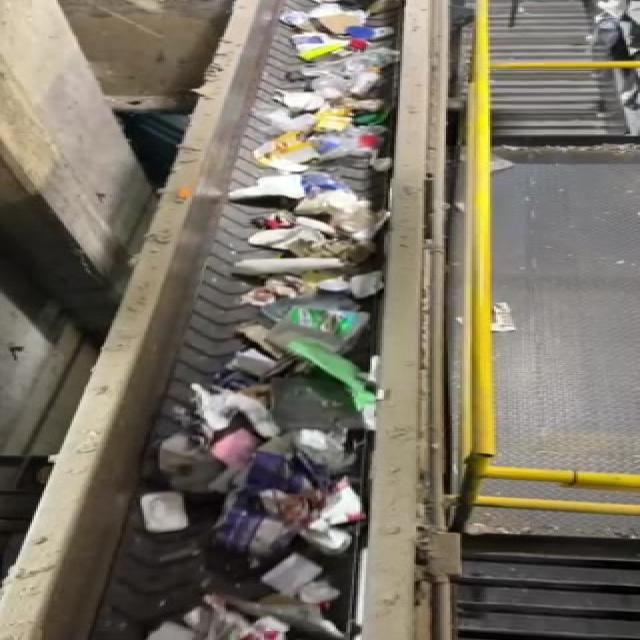hdpe: (285, 512, 364, 568)
paper: (180, 595, 352, 640), (166, 382, 248, 466), (277, 429, 367, 483)
pp: (260, 332, 394, 426), (115, 487, 205, 542)
